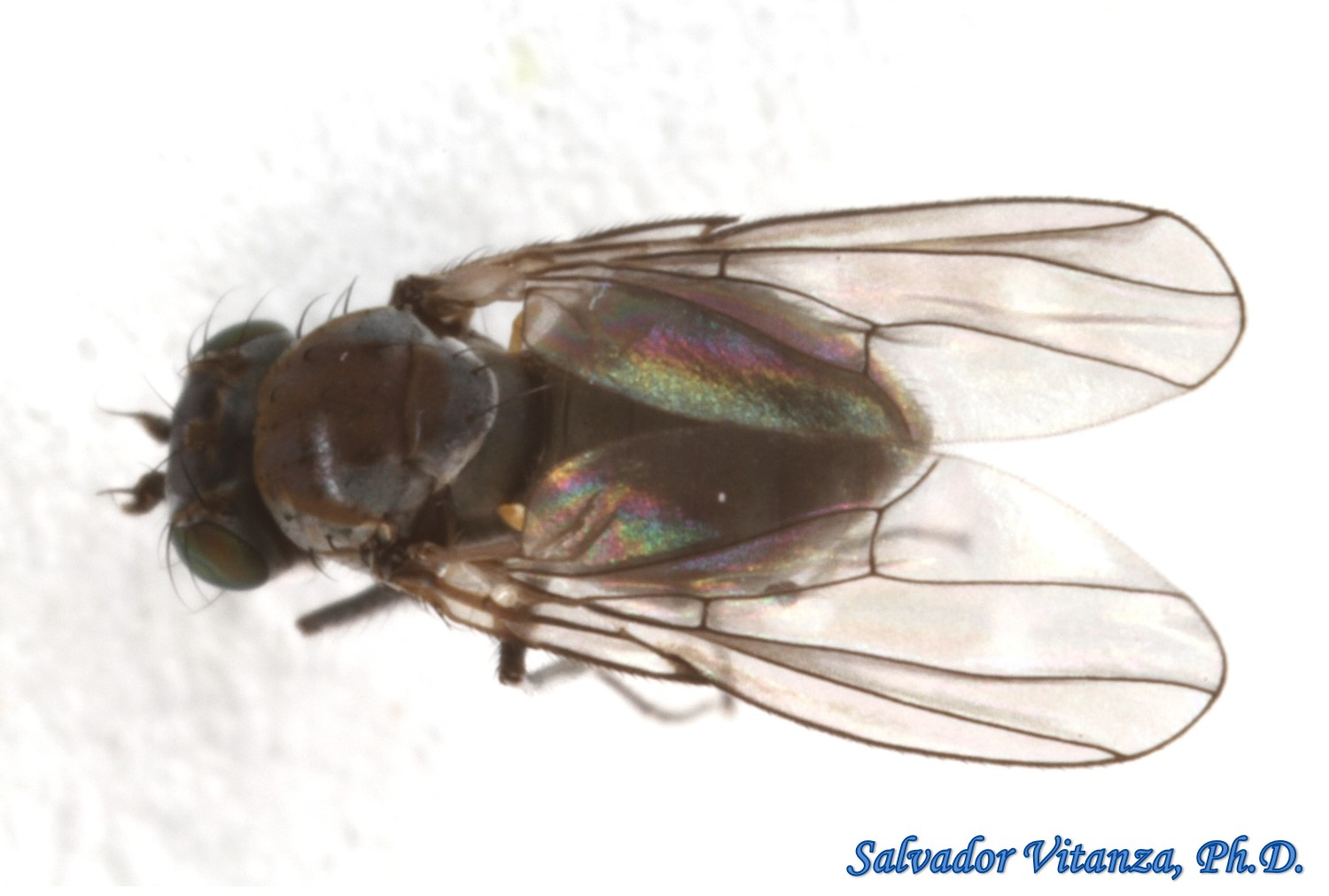Ephydridae: (98, 194, 1251, 768)
